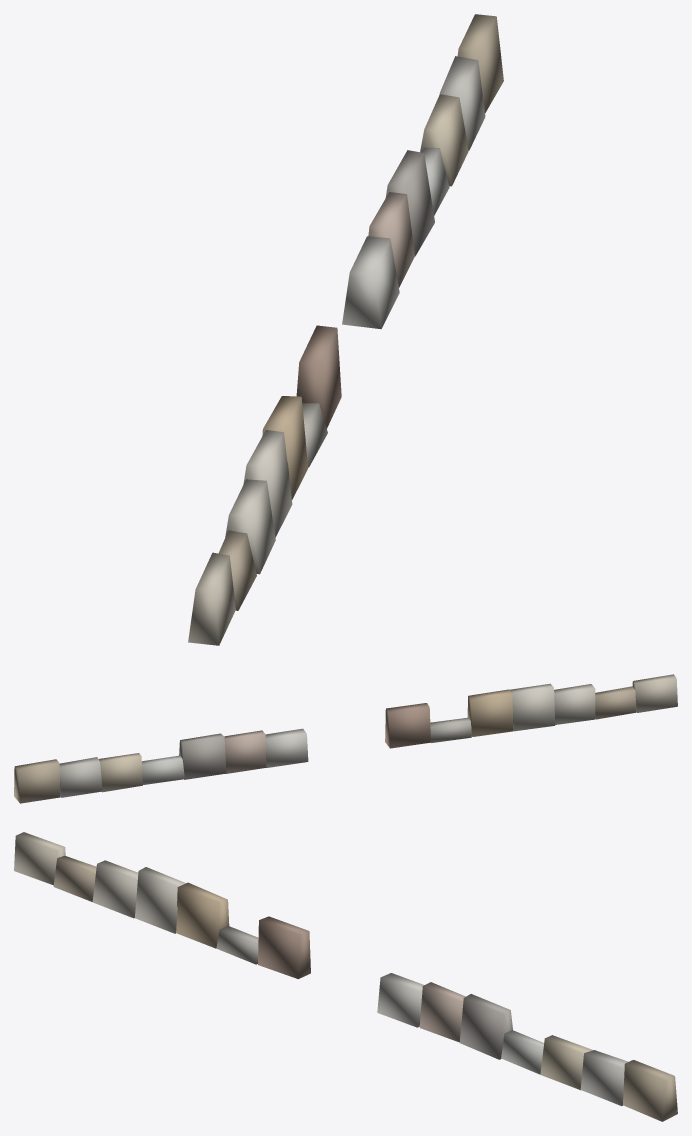
The model's file is farm_7_7_far.glb.
The picture shows the model from 3 angles, top to bottom: view 1: azimuth 30°, elevation 25°; view 2: azimuth 150°, elevation 25°; view 3: azimuth 270°, elevation 25°; orthographic projection. The views are drawn at different scales.
Visible parts, largest first — view 1: geometry_0; view 2: geometry_0; view 3: geometry_0.
Part boxes in pixels (left/top/right/bottom): geometry_0: left=188, top=14, right=503, bottom=645; geometry_0: left=14, top=674, right=677, bottom=803; geometry_0: left=14, top=832, right=677, bottom=1121.
Bounding box in the file's own units: 17.4 × 1.62 × 19.39.
